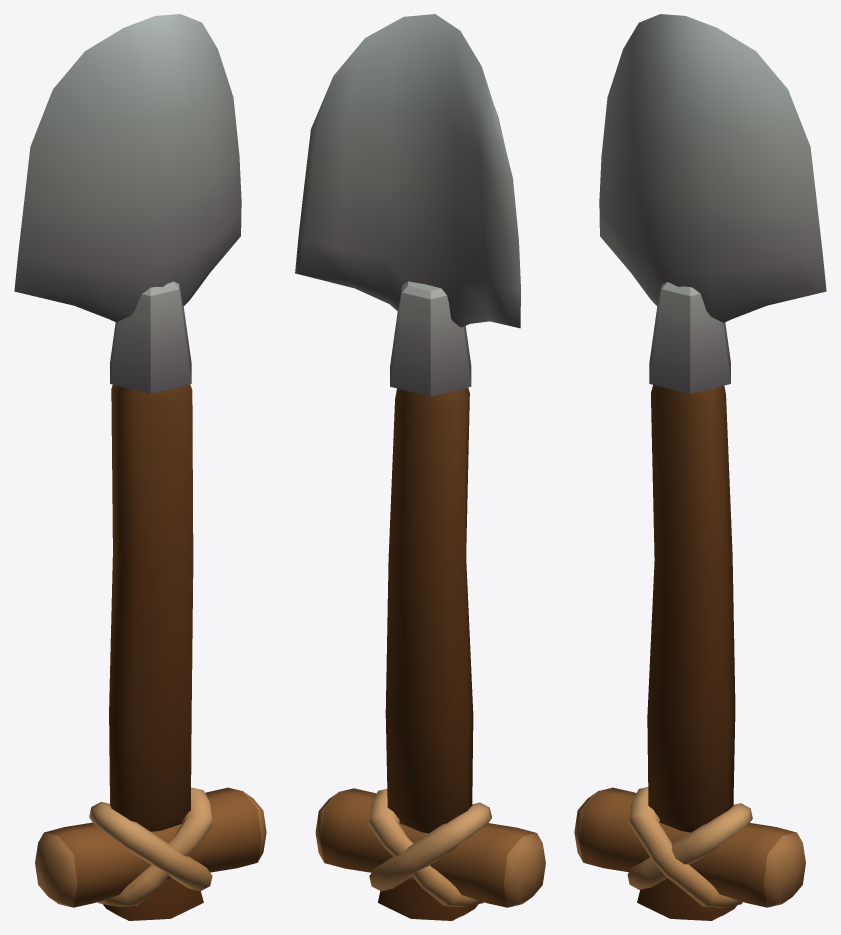
The model's file is Shovel_02.obj.
3 views of the same model, side by side, from view 1: azimuth 30°, elevation 25°; view 2: azimuth 150°, elevation 25°; view 3: azimuth 330°, elevation 25° (orthographic).
Visible parts, largest first — view 1: Shovel_02; view 2: Shovel_02; view 3: Shovel_02.
Part boxes in pixels (x1,y1,x2,y2): Shovel_02: [14, 14, 266, 920]; Shovel_02: [295, 14, 545, 920]; Shovel_02: [574, 14, 826, 920].
Bounding box in the file's own units: 0.3004 × 1.14 × 0.1224.
